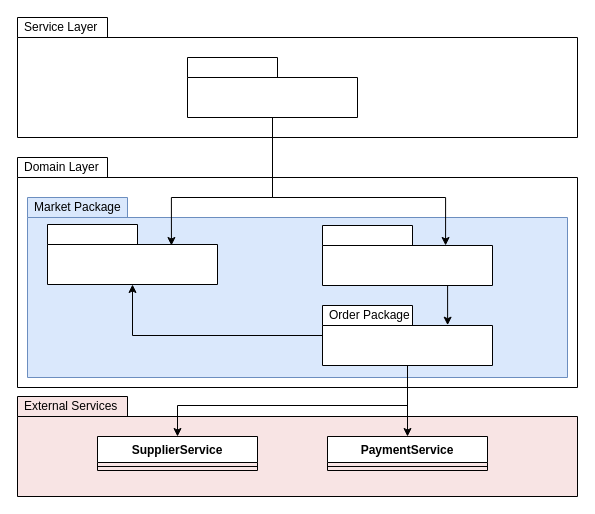
Some shapes in this 595 by 514 pixel diagram are drawn without their labels. Here are the shapes that lost their labels. From the top down, the centre of each, then its label:
the point at 272,87: Services
the point at 132,254: Store Package
the point at 407,255: User Package
